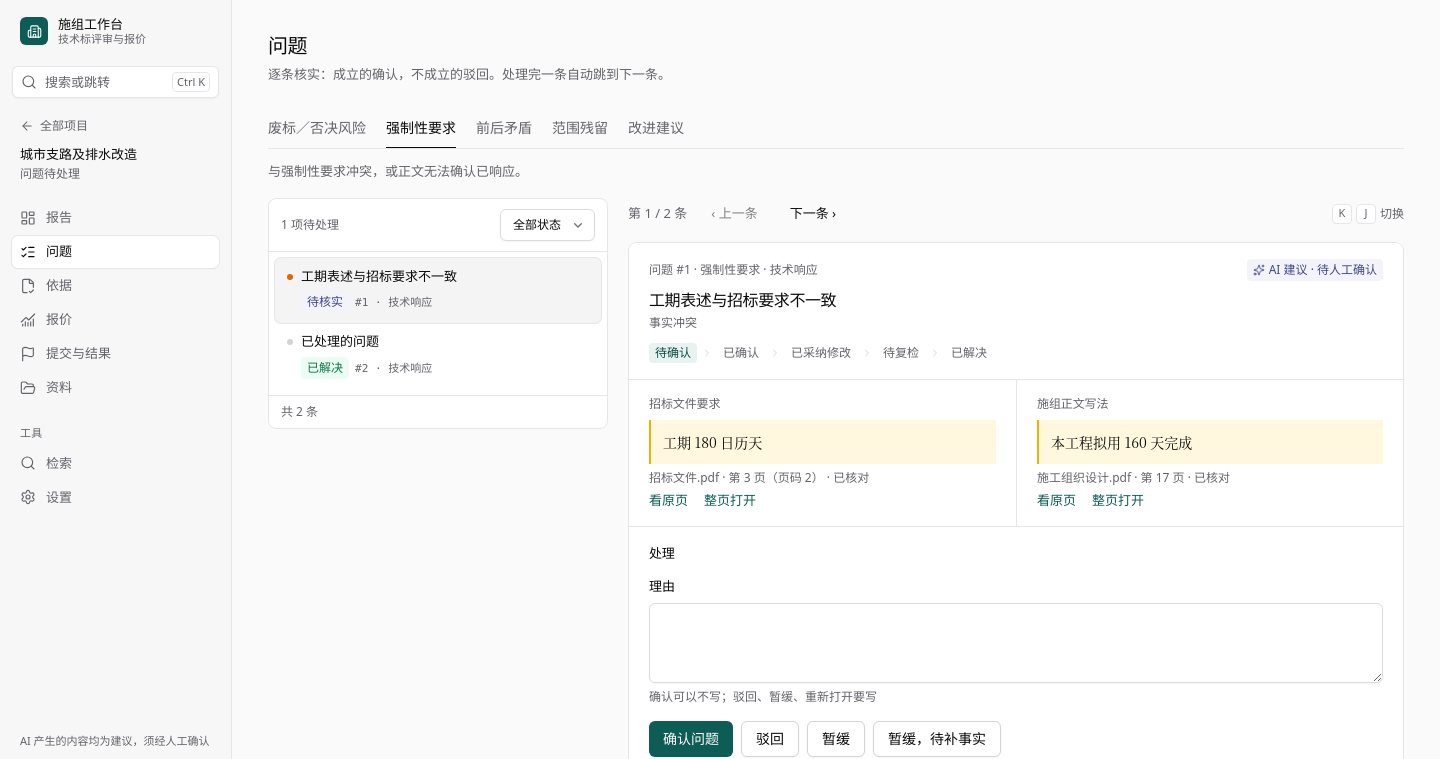
问题审核页 › 状态与分类筛选交给服务端：默认最近一轮评审，切换后带参数重新请求
Check: the text "工期表述与招标要求不一致" is shown, box x1=301 y1=268 x2=457 y2=286
Select "已解决" in the dropdown named "按状态筛选" at {"x": 548, "y": 225}, box x1=500 y1=209 x2=595 y2=241
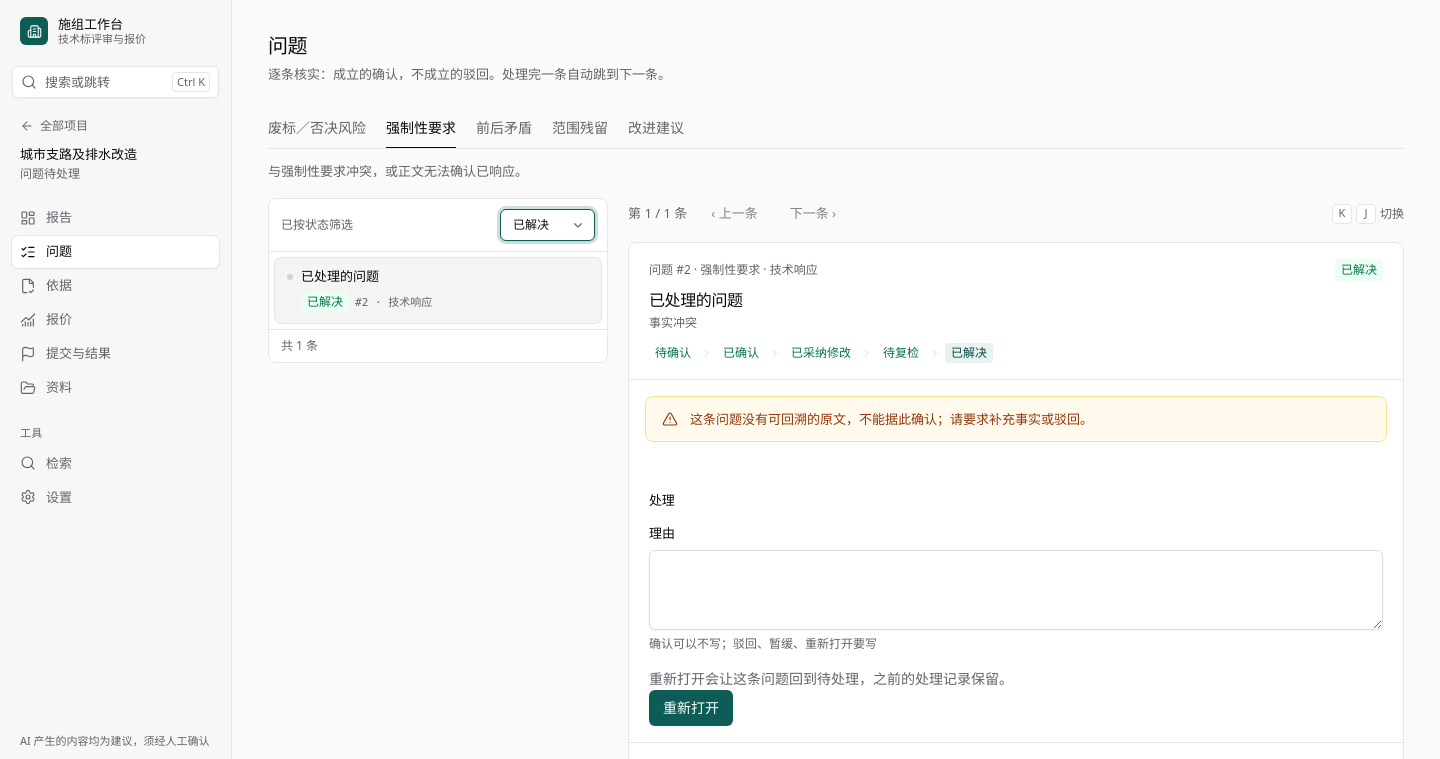
Check: the text "已处理的问题" is shown, box x1=301 y1=268 x2=379 y2=286
Check: the button "工期表述与招标要求不一致" is gone
